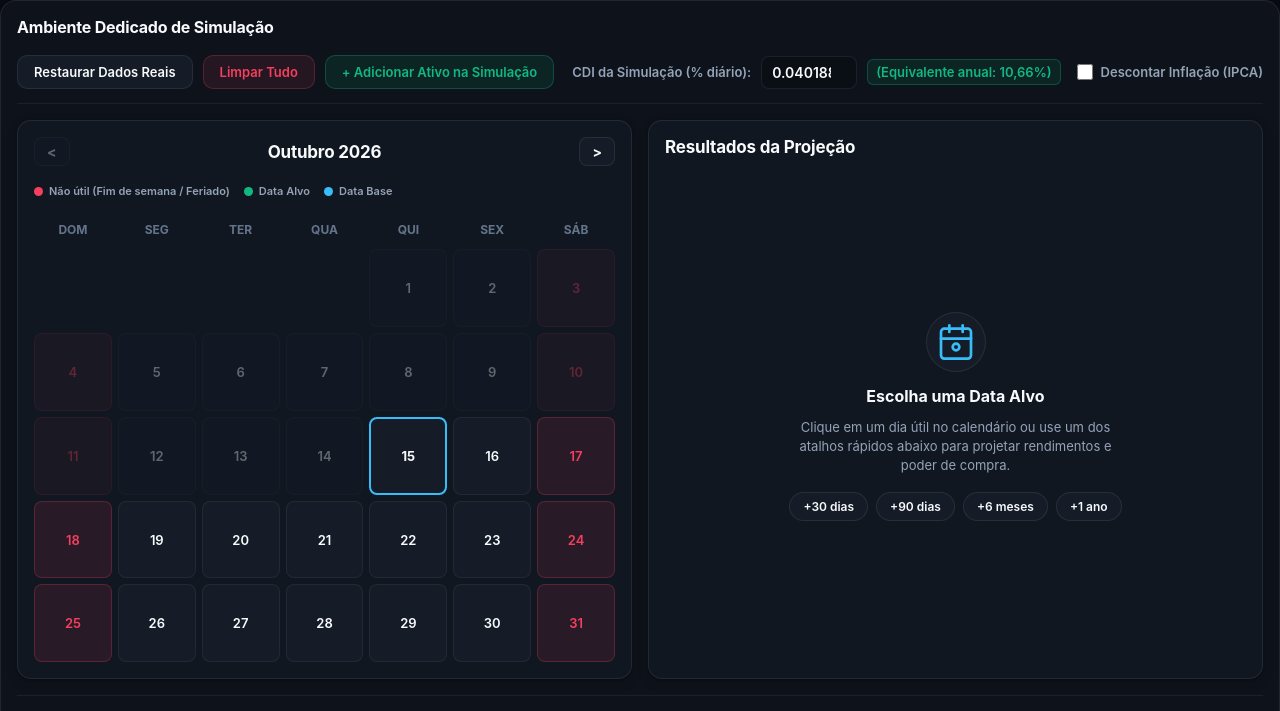
SimulationArea Component › toggles inflation control and updates input
The width and height of the screenshot is (1280, 711).
Step 1. Click the checkbox labelled "Descontar Inflação (IPCA)" → {"x": 1085, "y": 72}, box x1=1077 y1=64 x2=1093 y2=80
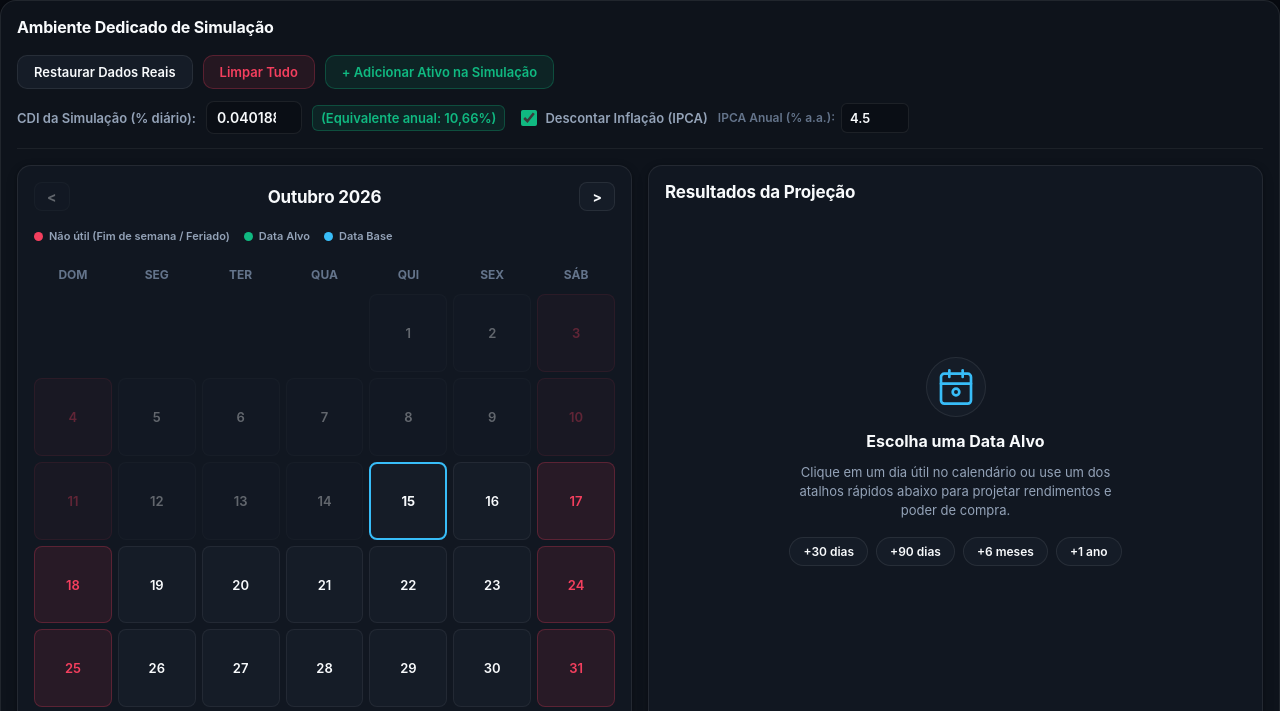
Now the checkbox labelled "Descontar Inflação (IPCA)" is checked, box x1=521 y1=110 x2=537 y2=126
Now the number field labelled "IPCA Anual (% a.a.):" holds "4.5", box x1=841 y1=102 x2=909 y2=132
